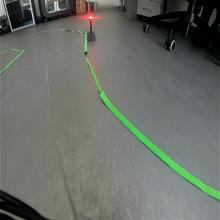red: (88, 14, 93, 21)
